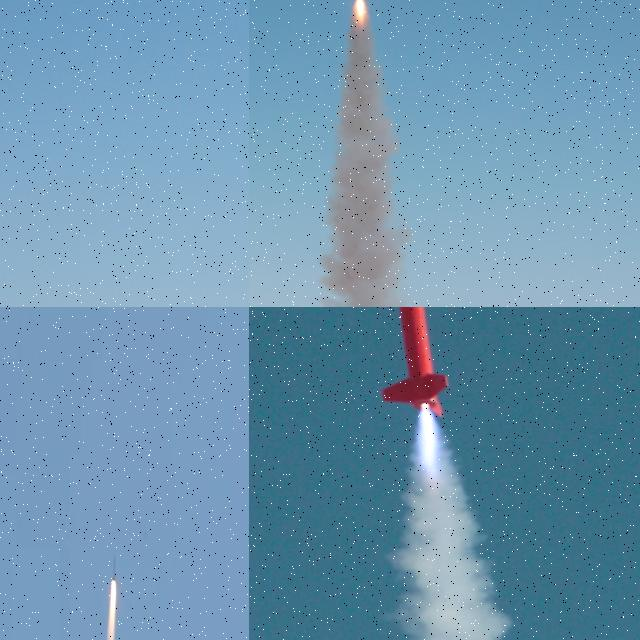Rocket: (380, 307, 448, 419), (111, 554, 117, 581)
